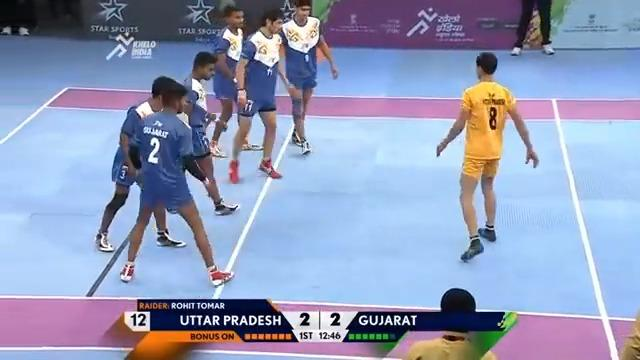Player: (147, 89, 221, 281), (226, 9, 291, 183), (277, 1, 339, 156), (111, 63, 174, 203), (186, 51, 229, 174), (210, 4, 250, 79)
Raider: (433, 50, 540, 264)
referee: (404, 287, 499, 359), (510, 0, 555, 56), (0, 0, 38, 36)
